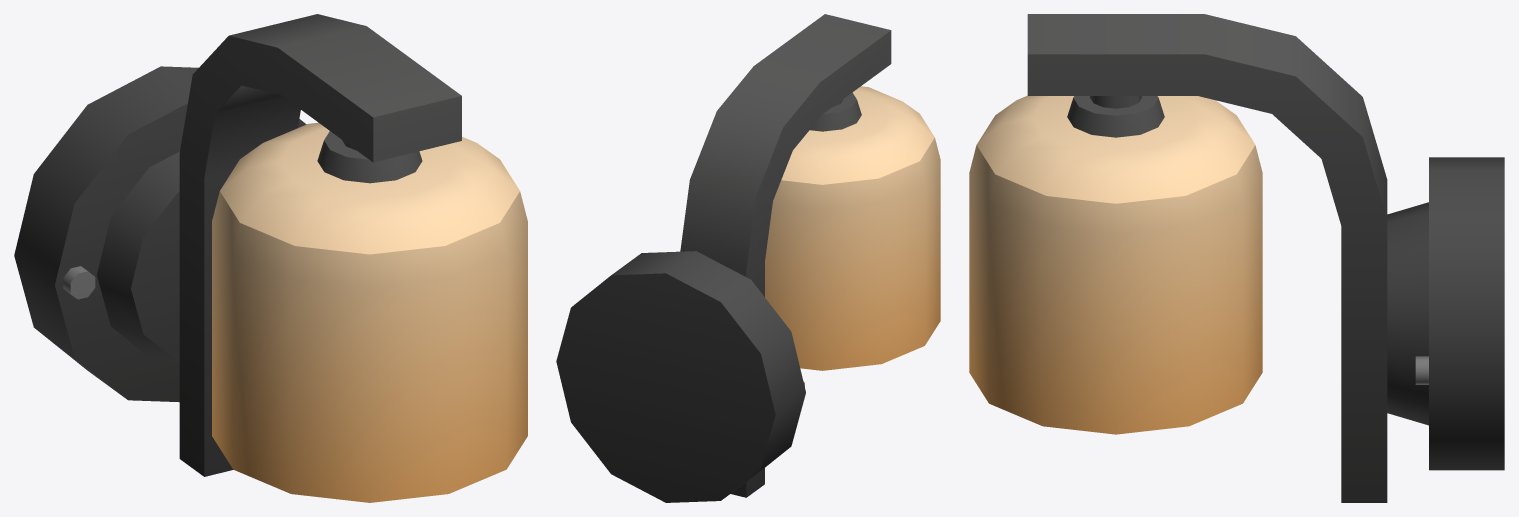
Rendered from Wall_Light_01.fbx.
The picture shows the model from 3 angles, left to right: view 1: azimuth 30°, elevation 25°; view 2: azimuth 150°, elevation 25°; view 3: azimuth 270°, elevation 25°; orthographic projection. The views are drawn at different scales.
Visible parts, largest first — view 1: Wall_Light_01; view 2: Wall_Light_01; view 3: Wall_Light_01.
Part boxes in pixels (bbox=[...]): Wall_Light_01: bbox=[14, 14, 527, 502]; Wall_Light_01: bbox=[556, 14, 940, 502]; Wall_Light_01: bbox=[969, 14, 1504, 502].
Size of the model in its own units: 31.26 by 49.22 by 53.21.
